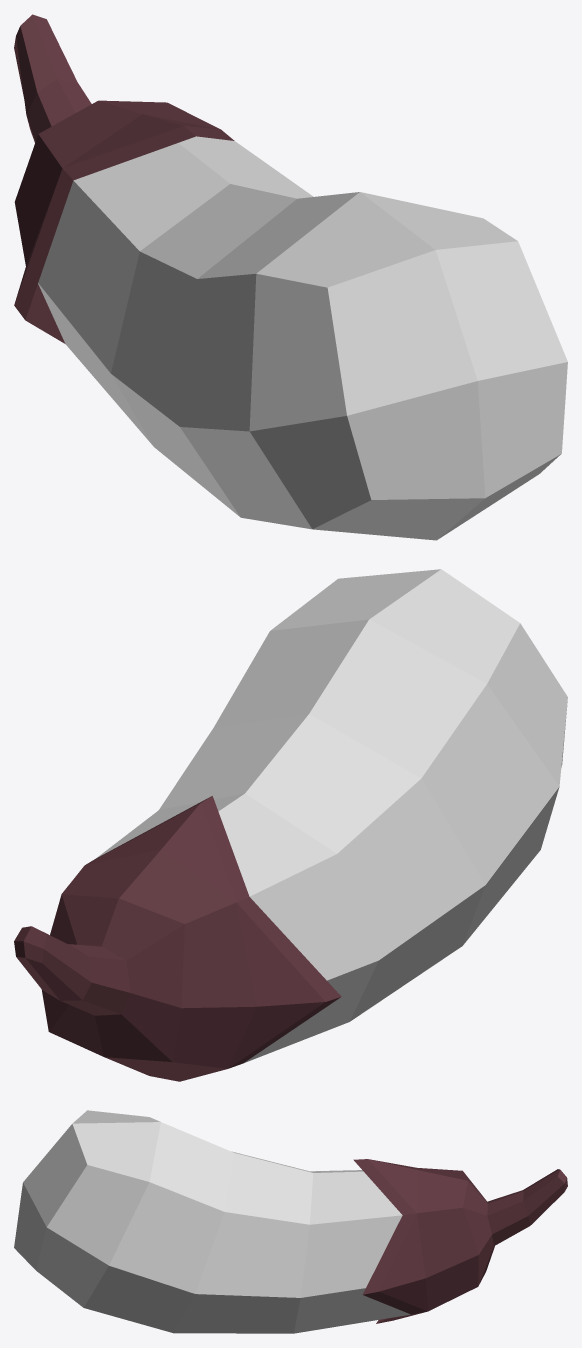
File: eggplant.fbx
The picture shows the model from 3 angles, top to bottom: view 1: azimuth 30°, elevation 25°; view 2: azimuth 150°, elevation 25°; view 3: azimuth 270°, elevation 25°; orthographic projection. The views are drawn at different scales.
Parts seen in each view (by area): view 1: eggplant; view 2: eggplant; view 3: eggplant.
Part boxes in pixels (<box>): eggplant: <box>14,14,567,540</box>; eggplant: <box>14,569,567,1081</box>; eggplant: <box>14,1110,567,1333</box>.
Bounding box in the file's own units: 0.1207 × 0.1287 × 0.3188.
